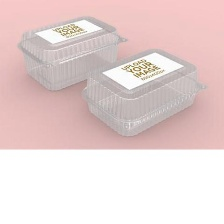plastic_box: (75, 42, 211, 140), (11, 10, 134, 95)
